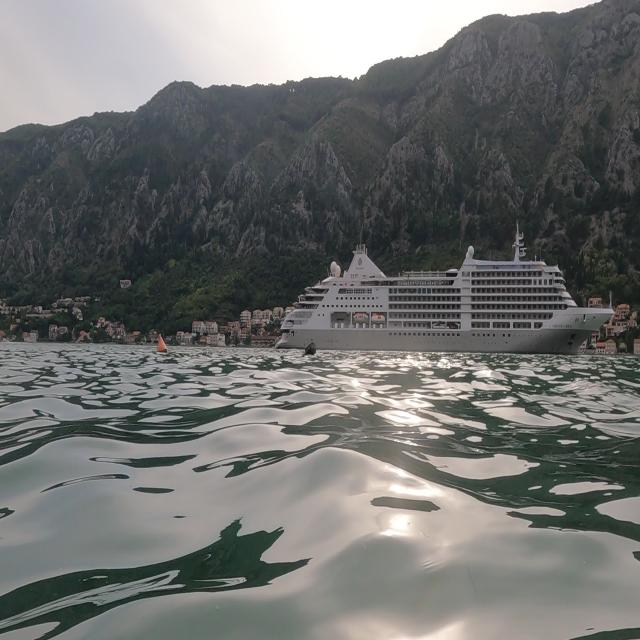boat: (273, 218, 615, 358)
buoy: (300, 336, 319, 364), (153, 329, 171, 358)
